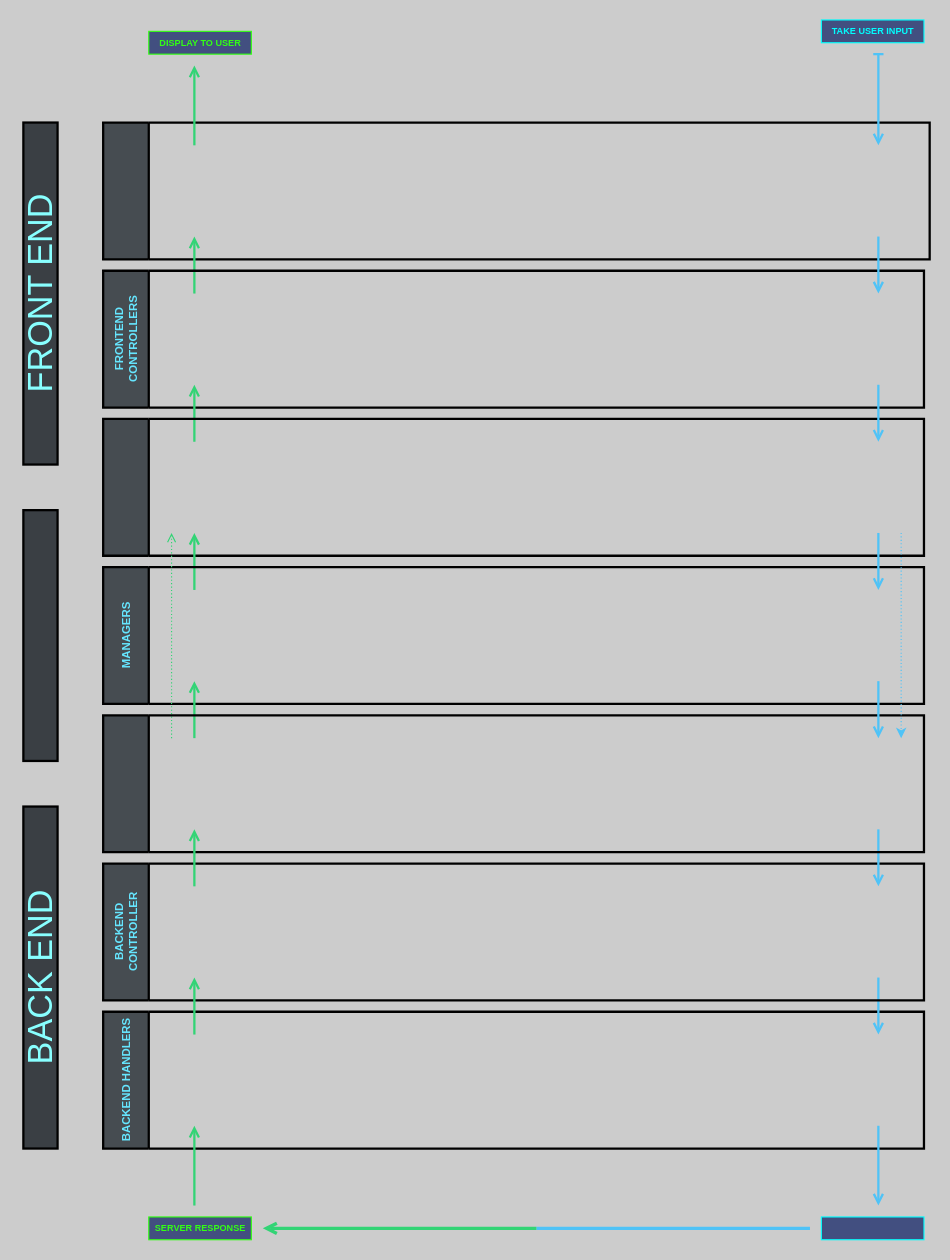
The diagram is 950 pixels wide and 1260 high, and some of its shapes have lost their labels. The shapes that lost their labels are listed below. From the top down, each one's centre as x and y in pixels, then its label:
At (515,190): "FRONTEND HANDLERS".
At (513,486): "FRONTEND COORDINATOR".
At (40,635): "BRIDGE".
At (513,783): "BACKEND COORDINATORS".
At (872,1228): "SERVER REQUEST".
